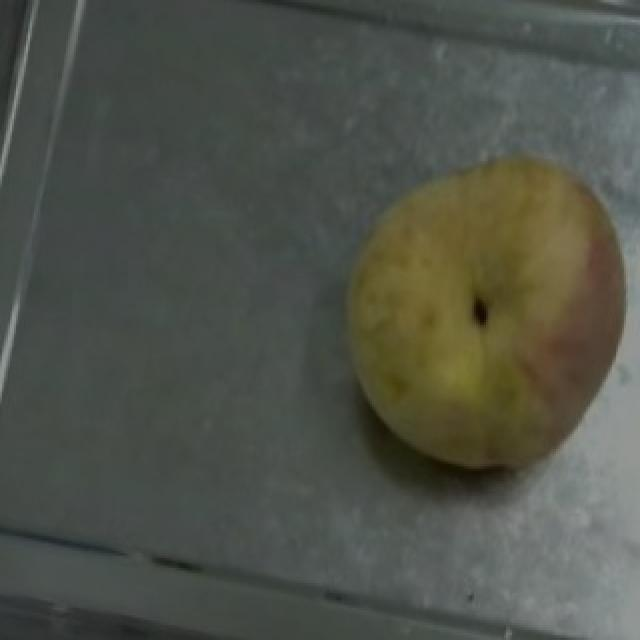Fruit: (310, 181, 640, 506)
